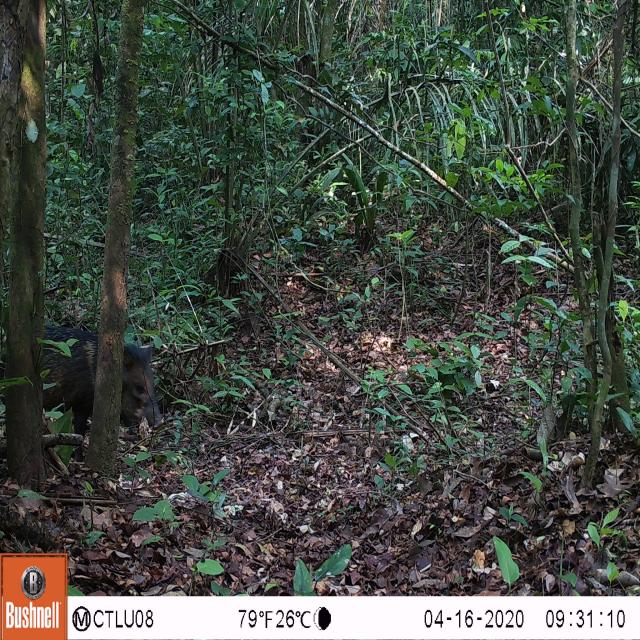Collared Peccary: (22, 310, 169, 475)
